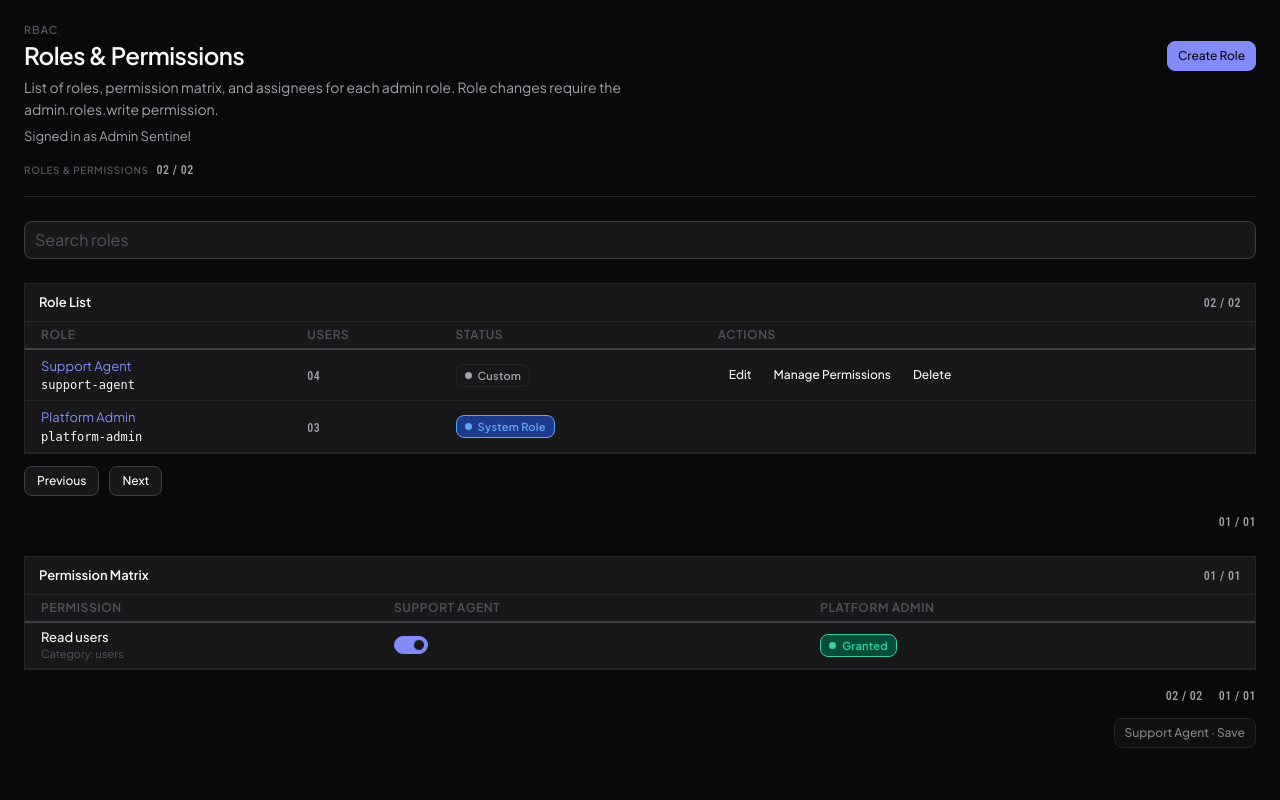
Test case: roles delete — self-lockout guard › shows the distinct self-warning when deleting a role the acting admin holds
Click the button "Delete": {"x": 932, "y": 375} [902,360,962,390]
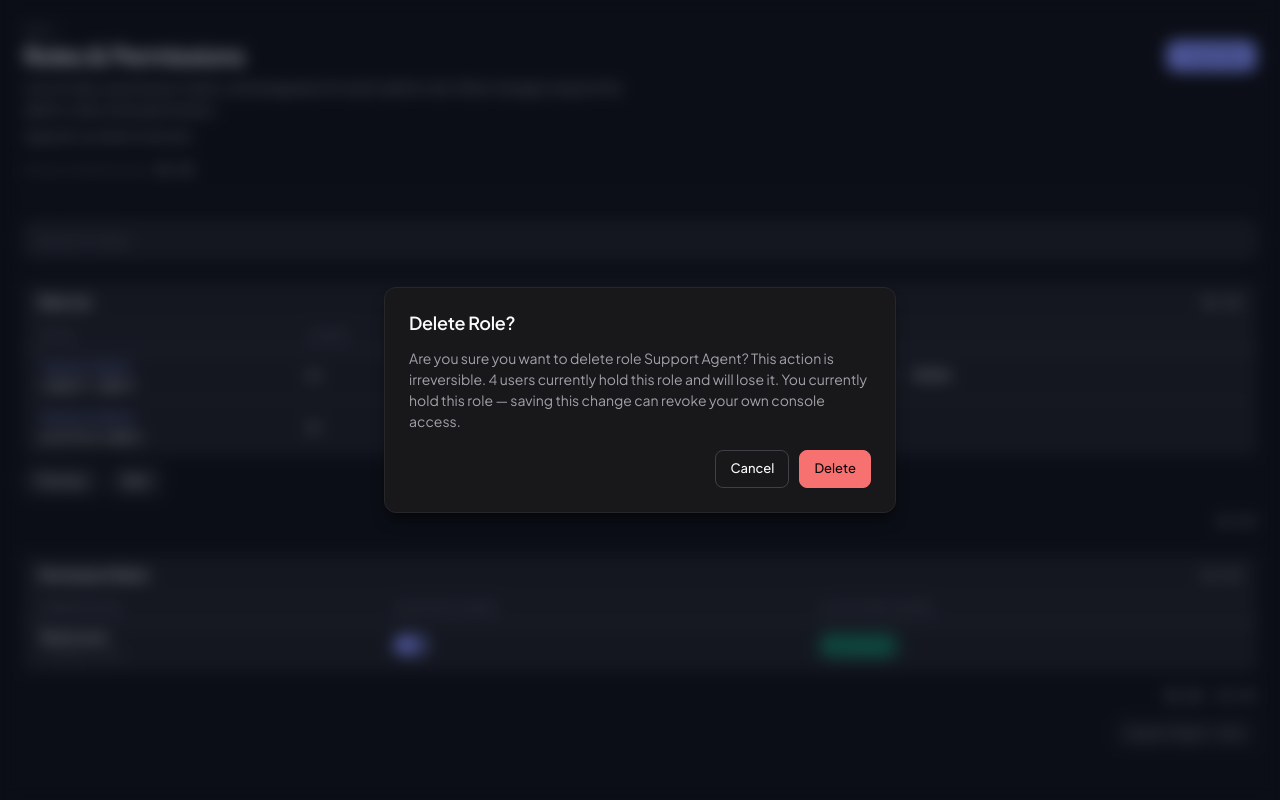
Now the text with test id "privileged-action-impact" shows "You currently hold this role — saving this change can revoke your own console access.", box [409,349,867,430]
